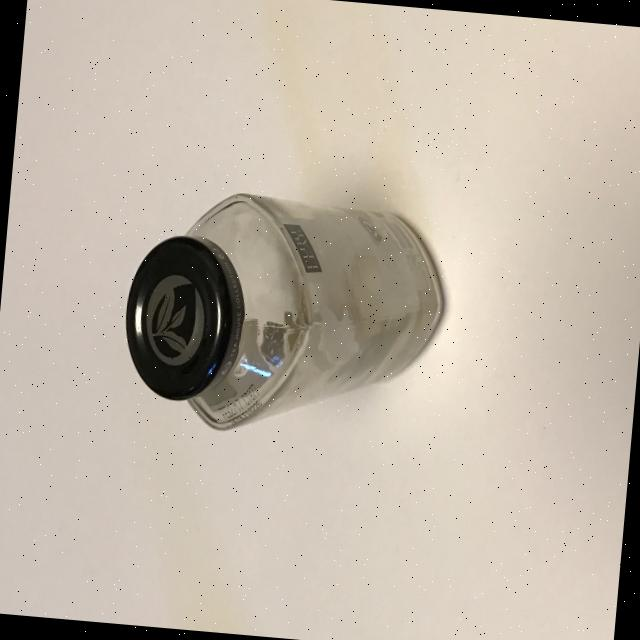glass: (116, 181, 453, 449)
